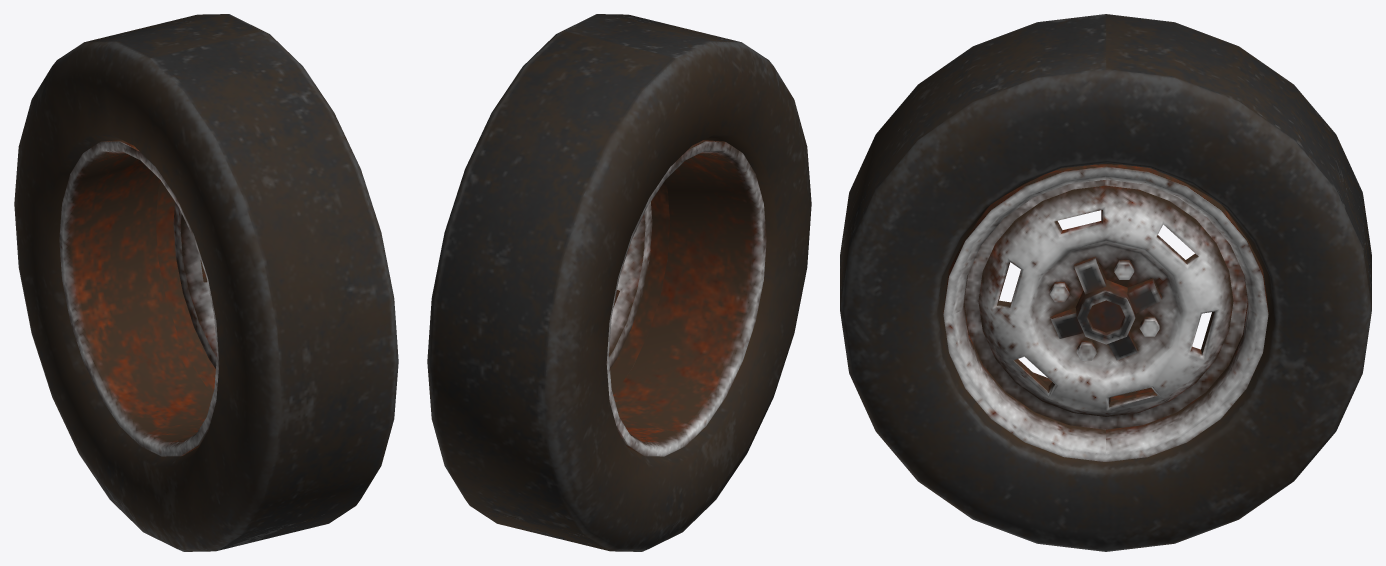
The model's file is wheel.fbx.
3 views of the same model, side by side, from view 1: azimuth 30°, elevation 25°; view 2: azimuth 150°, elevation 25°; view 3: azimuth 270°, elevation 25° (orthographic).
Visible parts, largest first — view 1: RL; view 2: RL; view 3: RL.
Part boxes in pixels (x1,y1,x2,y2): RL: [14, 14, 398, 551]; RL: [427, 14, 811, 551]; RL: [840, 14, 1371, 551].
Bounding box in the file's own units: 32.92 × 104 × 104.
